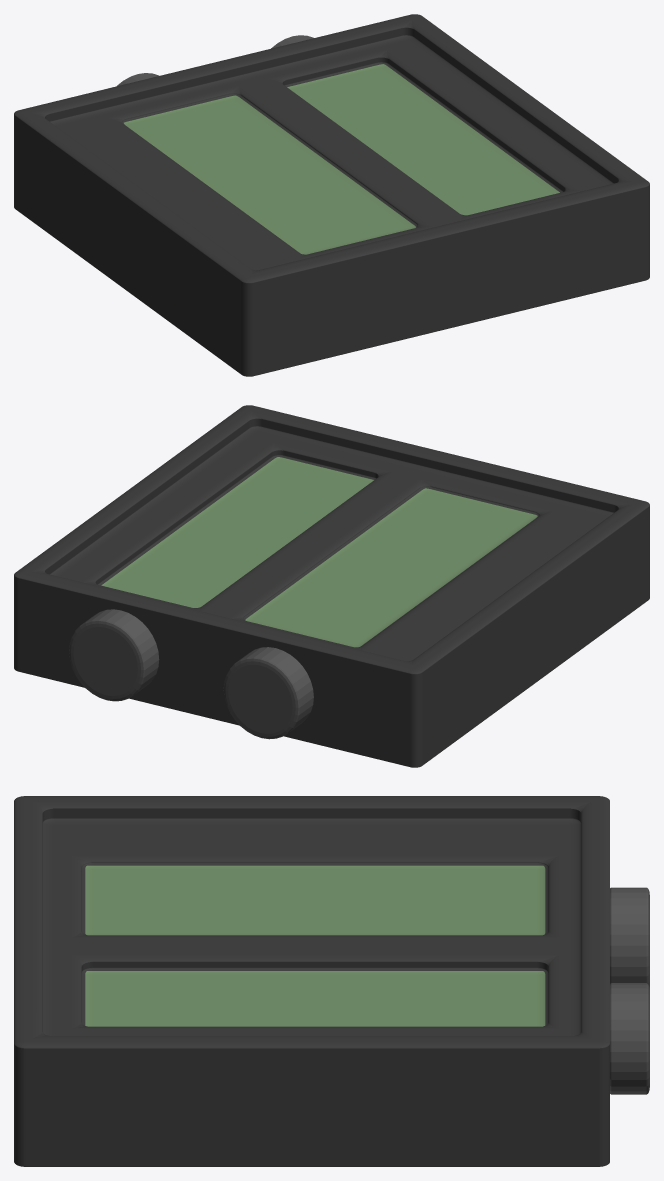
File: clock._0_1v.fbx
3 renders of one model, top to bottom at view 1: azimuth 30°, elevation 25°; view 2: azimuth 150°, elevation 25°; view 3: azimuth 270°, elevation 25°, orthographic. The views are drawn at different scales.
Visible parts, largest first — view 1: Watch; view 2: Watch, Ruedecilla, Ruedecilla.001; view 3: Watch, Ruedecilla, Ruedecilla.001.
Boxes of the visible parts, bbox=[...] form: Watch: bbox=[14, 14, 649, 376]; Watch: bbox=[14, 405, 649, 767]; Ruedecilla: bbox=[69, 609, 159, 701]; Ruedecilla.001: bbox=[223, 647, 313, 739]; Watch: bbox=[14, 796, 609, 1166]; Ruedecilla: bbox=[610, 983, 649, 1094]; Ruedecilla.001: bbox=[610, 887, 649, 989].
Bounding box in the file's own units: 200 × 45.36 × 213.
